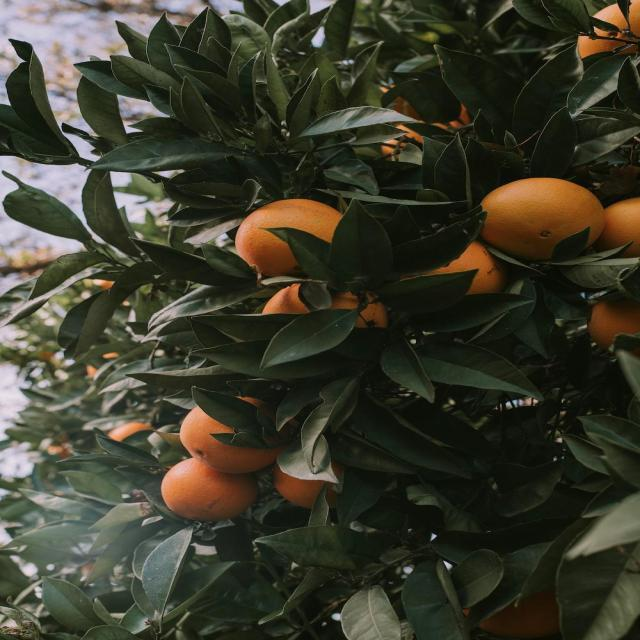Jeruk Sudah Matang: (482, 174, 602, 263), (240, 196, 353, 282), (182, 392, 286, 473), (262, 275, 398, 332), (160, 456, 258, 520), (417, 240, 505, 300), (273, 450, 338, 512), (578, 0, 640, 63), (592, 284, 640, 358), (600, 197, 640, 266)
